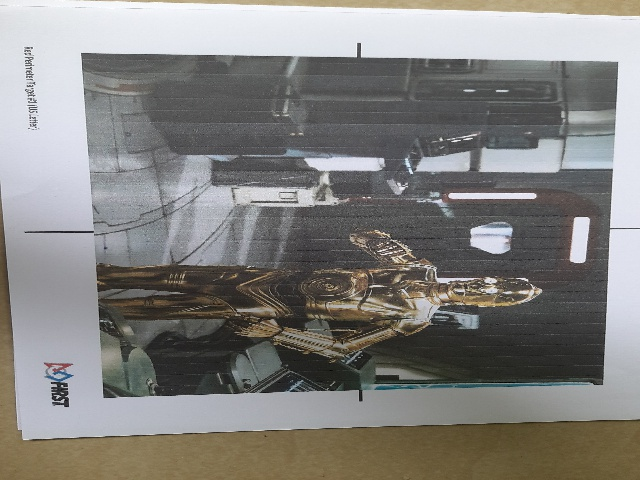rpt1: (13, 2, 639, 422)
